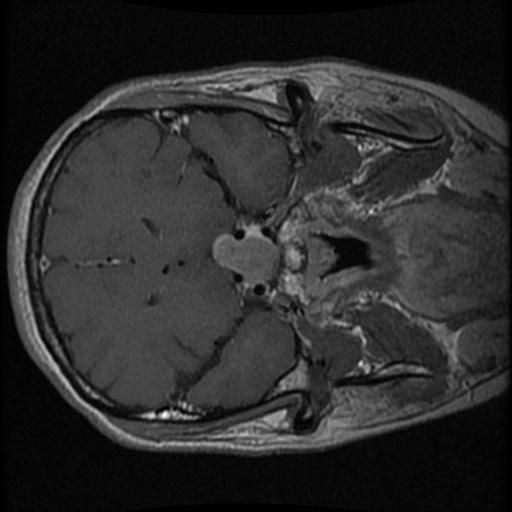pituitary tumour: (212, 222, 281, 289)
